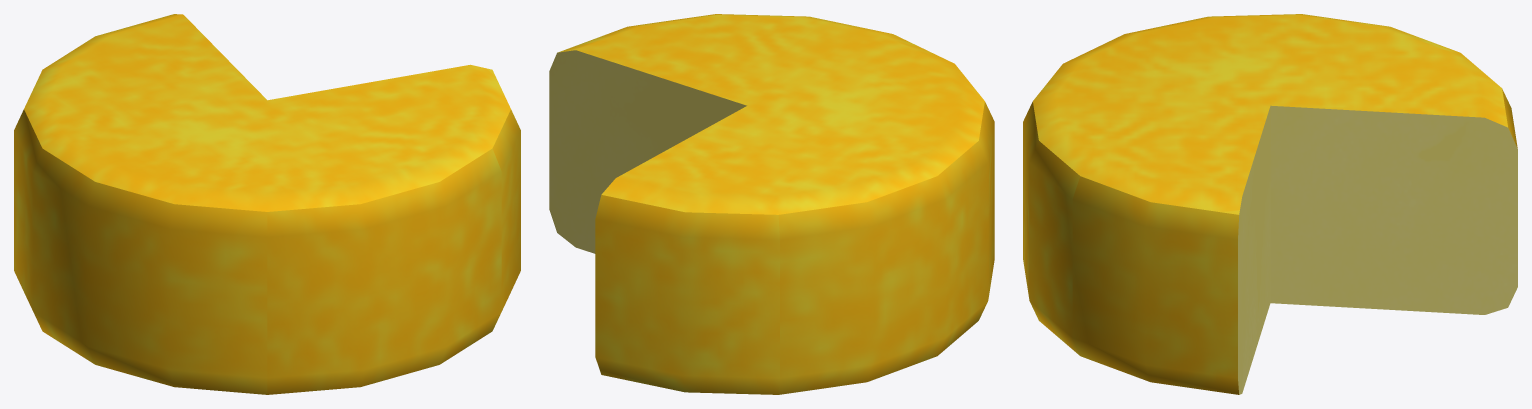
File: Prop_Cheese_01.fbx
3 renders of one model, left to right at view 1: azimuth 30°, elevation 25°; view 2: azimuth 150°, elevation 25°; view 3: azimuth 270°, elevation 25°, orthographic.
Parts seen in each view (by area): view 1: Prop_Cheese_01; view 2: Prop_Cheese_01; view 3: Prop_Cheese_01.
Boxes of the visible parts, bbox=[...] form: Prop_Cheese_01: bbox=[14, 14, 520, 394]; Prop_Cheese_01: bbox=[549, 14, 994, 394]; Prop_Cheese_01: bbox=[1023, 14, 1517, 394].
Bounding box in the file's own units: 29.36 × 12.93 × 29.36.
